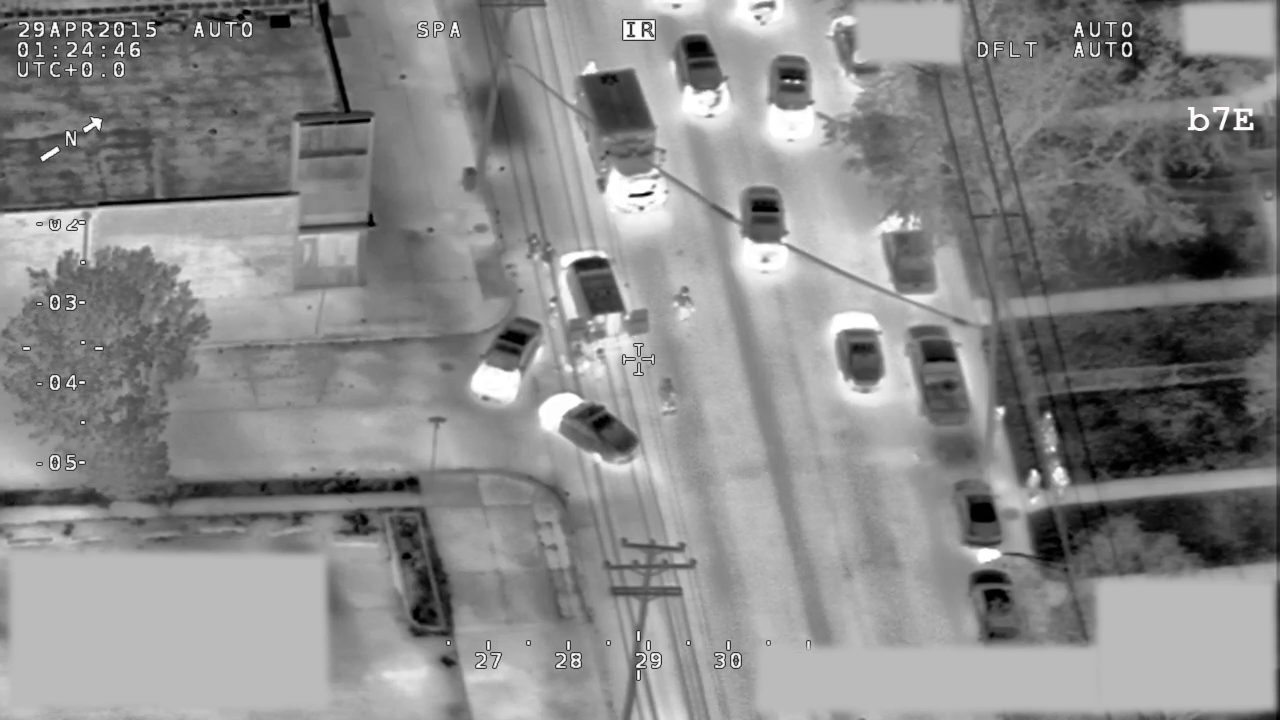vehicle: (573, 59, 672, 214), (538, 389, 643, 472), (558, 250, 650, 342), (902, 322, 979, 430), (472, 315, 548, 405), (670, 30, 738, 123), (879, 210, 945, 299), (828, 308, 889, 397), (964, 566, 1027, 645), (738, 183, 790, 275), (768, 51, 815, 143), (950, 475, 1005, 551), (826, 14, 882, 88)
